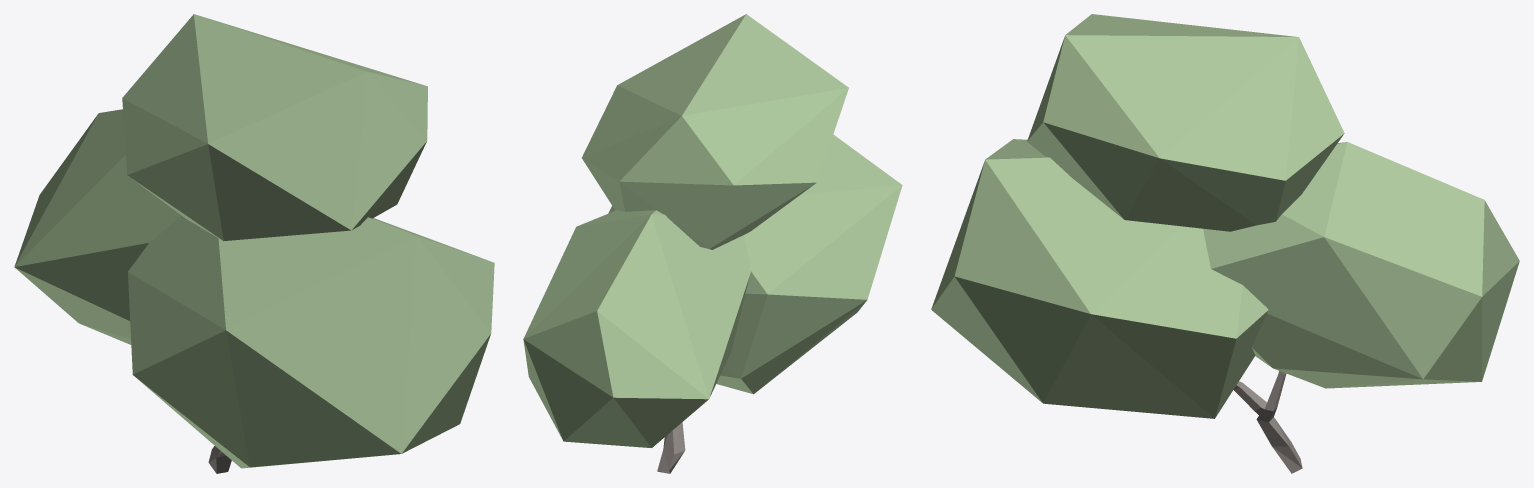
File: kustik_green.fbx
3 renders of one model, left to right at view 1: azimuth 30°, elevation 25°; view 2: azimuth 150°, elevation 25°; view 3: azimuth 270°, elevation 25°, orthographic. The views are drawn at different scales.
Parts seen in each view (by area): view 1: Kustik_green; view 2: Kustik_green; view 3: Kustik_green.
Boxes of the visible parts, x1,y1,x2,y2 form: Kustik_green: [14, 14, 494, 473]; Kustik_green: [523, 14, 902, 473]; Kustik_green: [931, 14, 1519, 473].
Bounding box in the file's own units: 102 × 142 × 170.
